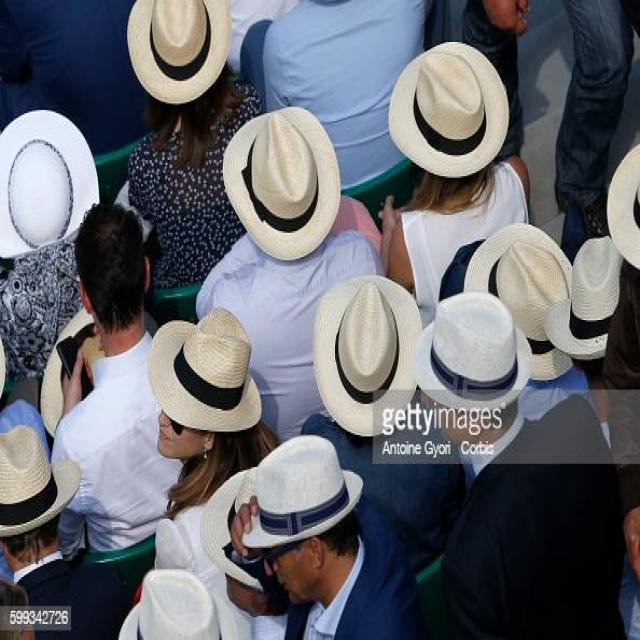hat: (244, 433, 364, 603), (149, 318, 265, 461)
head: (73, 202, 151, 343)
